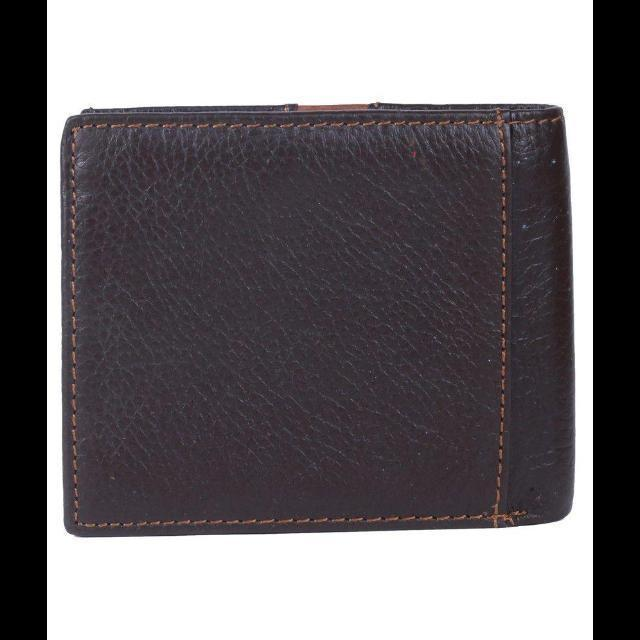Wallet: (51, 93, 578, 540)
